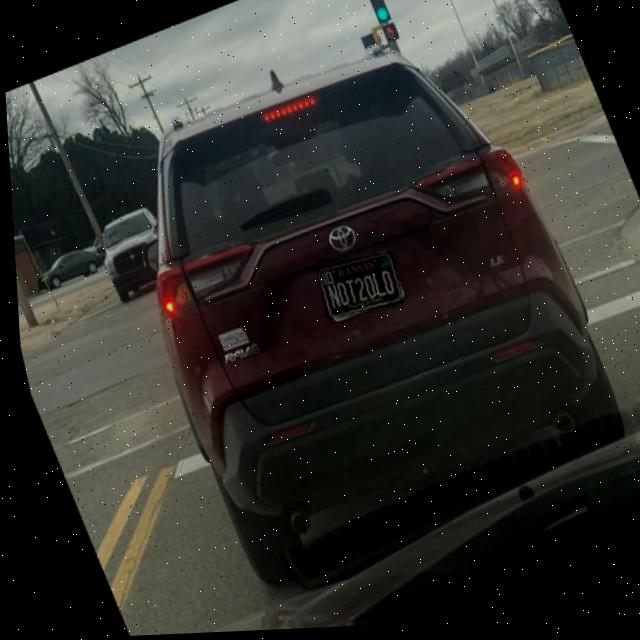LicensePlate: (314, 255, 399, 321)
